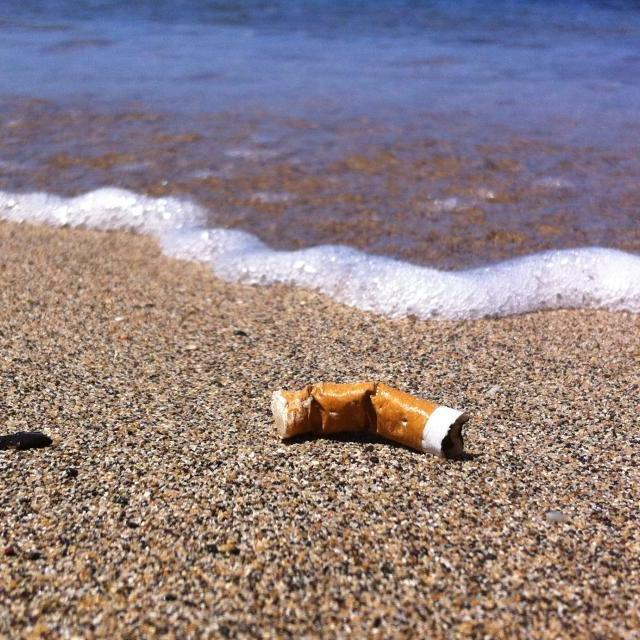Cigarette Butt: (268, 378, 472, 466)
